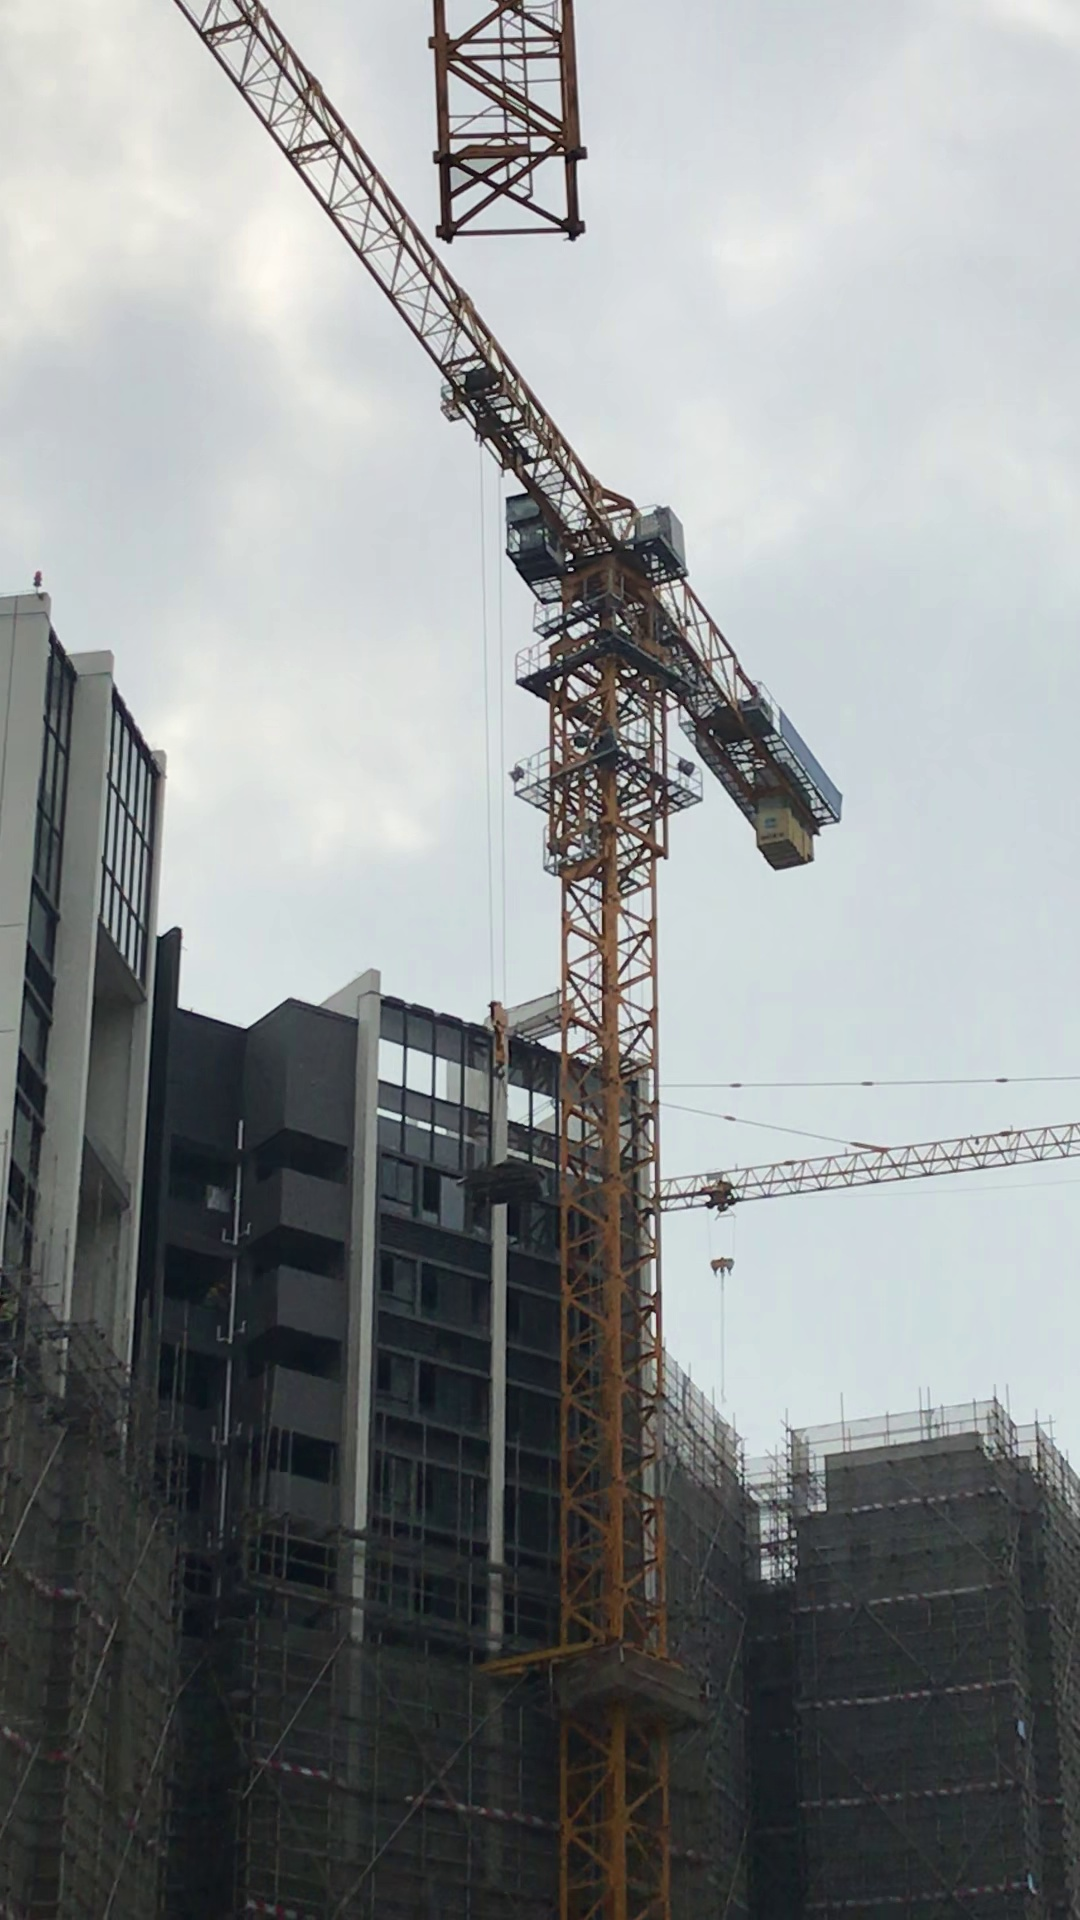hook: (709, 1253, 736, 1280)
slogan: (779, 713, 843, 823)
